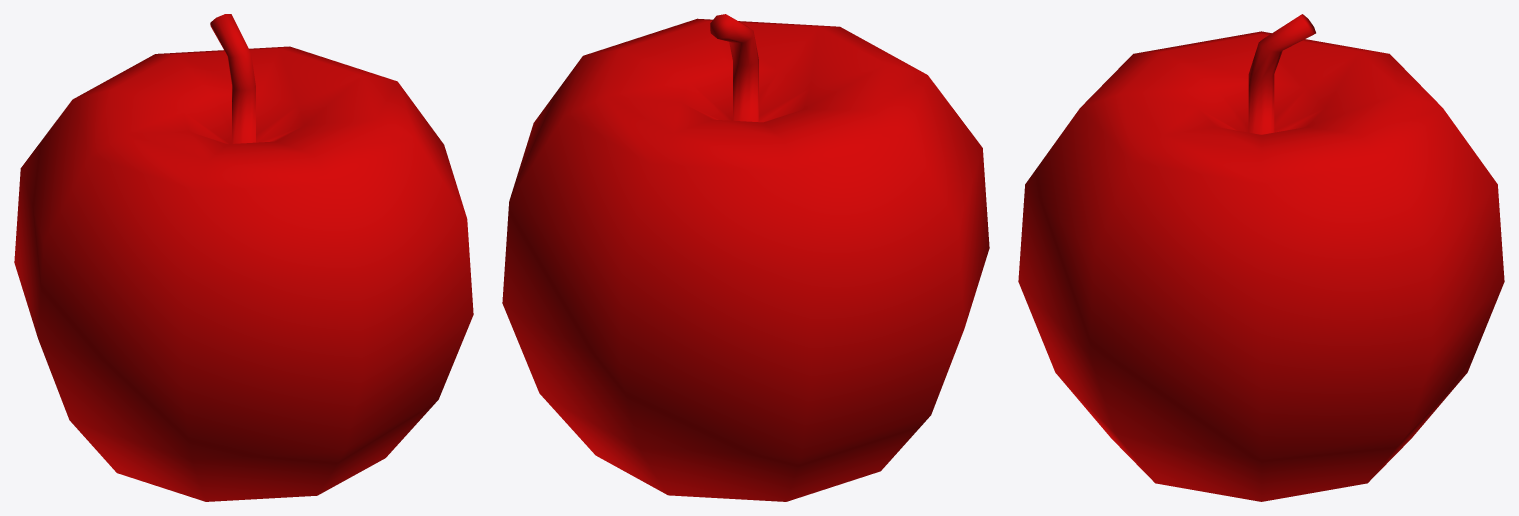
Rendered from APPLEgrown.fbx.
3 views of the same model, side by side, from view 1: azimuth 30°, elevation 25°; view 2: azimuth 150°, elevation 25°; view 3: azimuth 270°, elevation 25° (orthographic). The views are drawn at different scales.
Visible parts, largest first — view 1: Sphere; view 2: Sphere; view 3: Sphere.
Part boxes in pixels (x1,y1,x2,y2): Sphere: (14,14,473,501); Sphere: (502,14,989,501); Sphere: (1018,14,1504,501).
Bounding box in the file's own units: 1.89 × 1.89 × 1.89.
